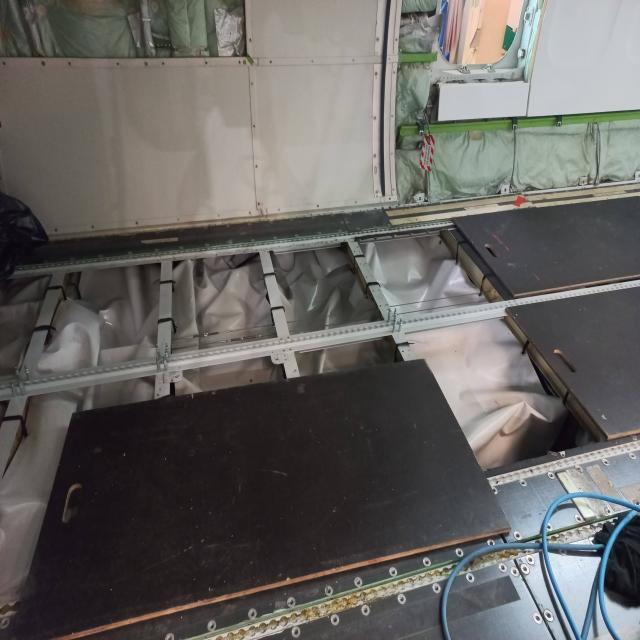Missing Fastener: (325, 612, 347, 628), (286, 624, 306, 640), (542, 517, 558, 533), (452, 544, 468, 560), (543, 606, 557, 622), (284, 594, 298, 610), (247, 607, 261, 621), (514, 478, 530, 490), (486, 484, 502, 496), (512, 528, 524, 544), (532, 610, 544, 626), (465, 568, 477, 584), (422, 552, 434, 568), (206, 614, 218, 630), (602, 504, 614, 518), (432, 581, 444, 595), (396, 589, 406, 605), (574, 512, 586, 524), (546, 468, 558, 480), (484, 536, 496, 548), (496, 562, 508, 574), (361, 604, 372, 616), (162, 632, 178, 640), (601, 455, 611, 467), (525, 553, 537, 563), (510, 566, 520, 578), (324, 586, 336, 596), (520, 562, 528, 574), (389, 566, 397, 578), (575, 462, 583, 473), (629, 449, 637, 459), (559, 449, 567, 459), (353, 578, 362, 586)
